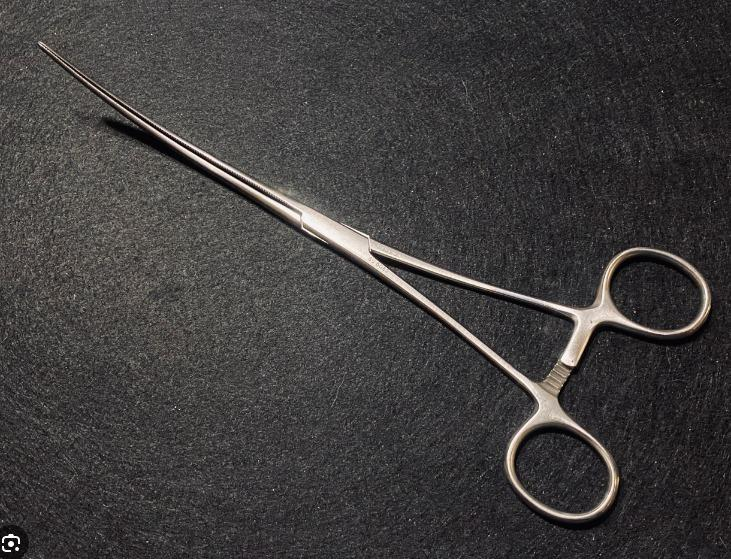Doyel Instestinal Forceps: (21, 21, 709, 525)
